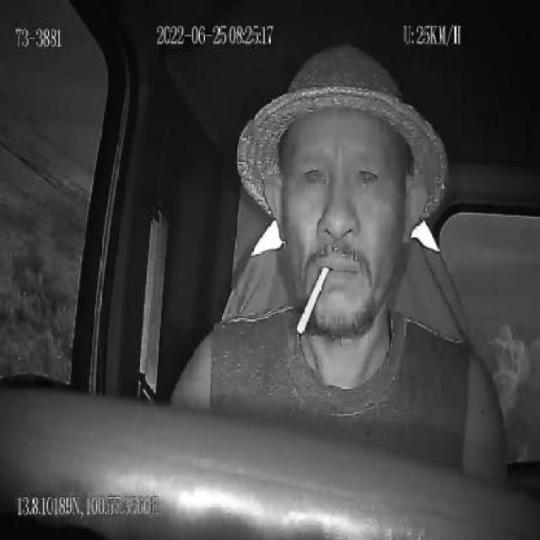smoking: (295, 265, 328, 336)
